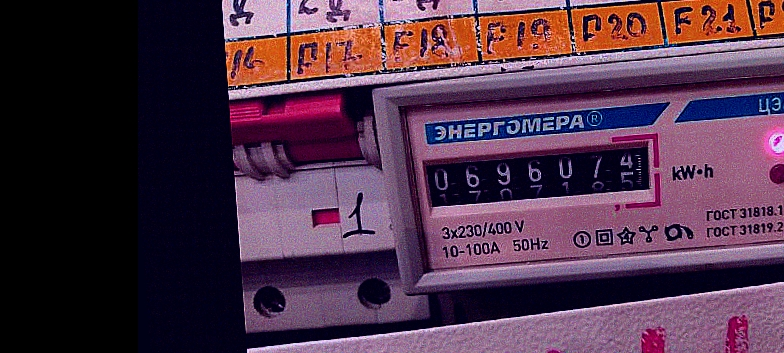0: (431, 164, 451, 191), (557, 152, 574, 180)
4: (618, 147, 634, 169)
5: (620, 169, 635, 189)
6: (462, 161, 482, 187), (526, 155, 544, 183)
7: (588, 151, 605, 178)
9: (494, 159, 513, 186)
screen: (416, 129, 667, 224)
